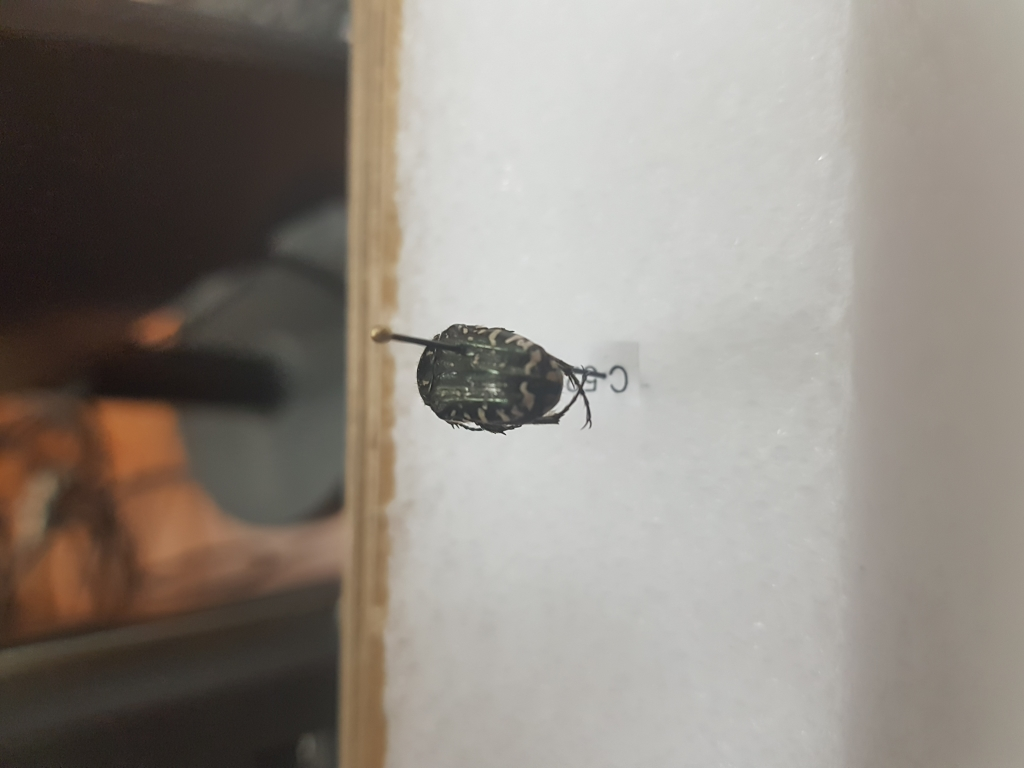Oxythyrea_funesta: (403, 320, 614, 451)
